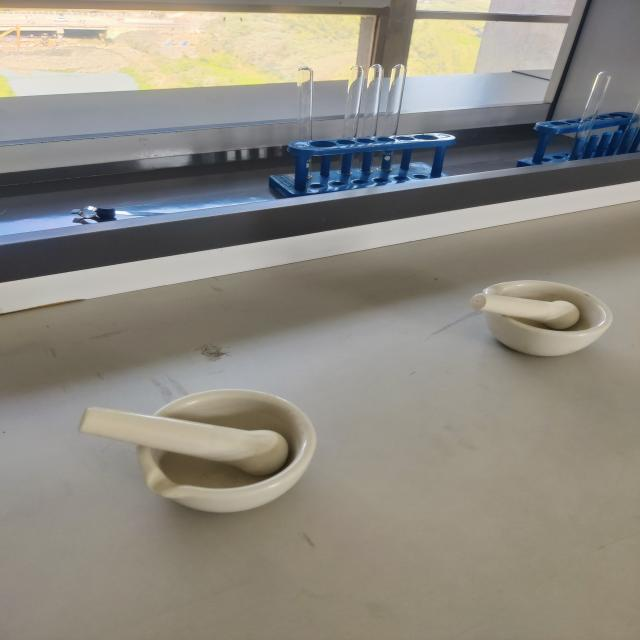Porcelain_Mortar Pestle: (47, 352, 345, 542), (442, 238, 640, 384)
